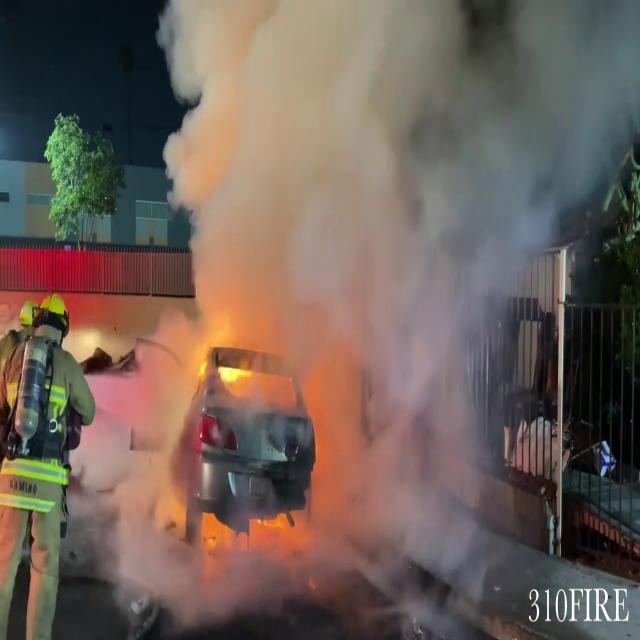Smoke: (149, 0, 543, 613)
